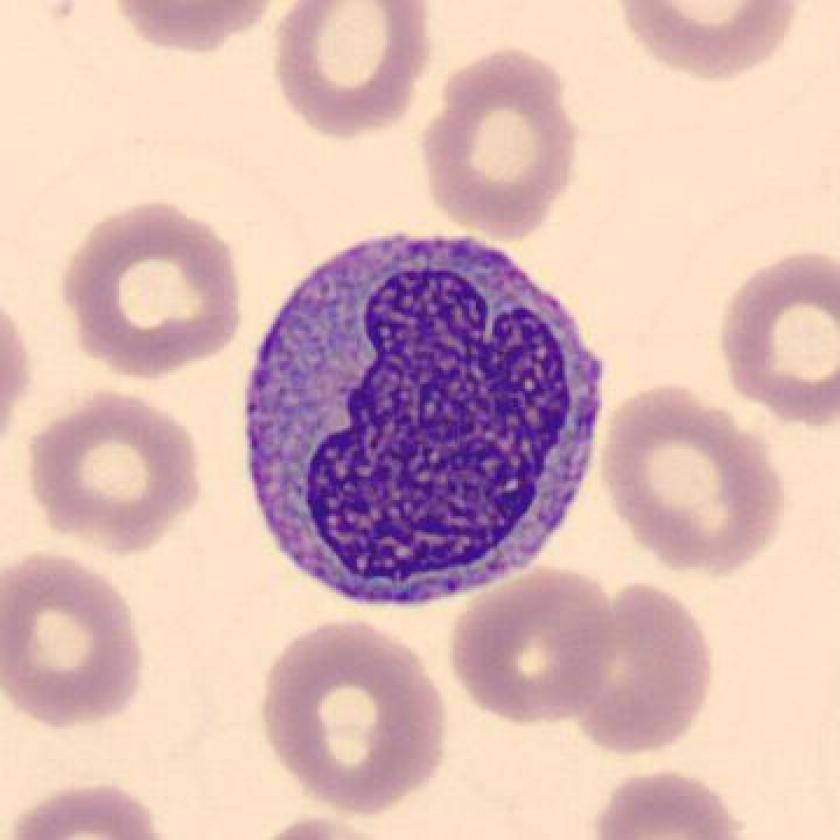monocyte: (216, 214, 636, 621)
